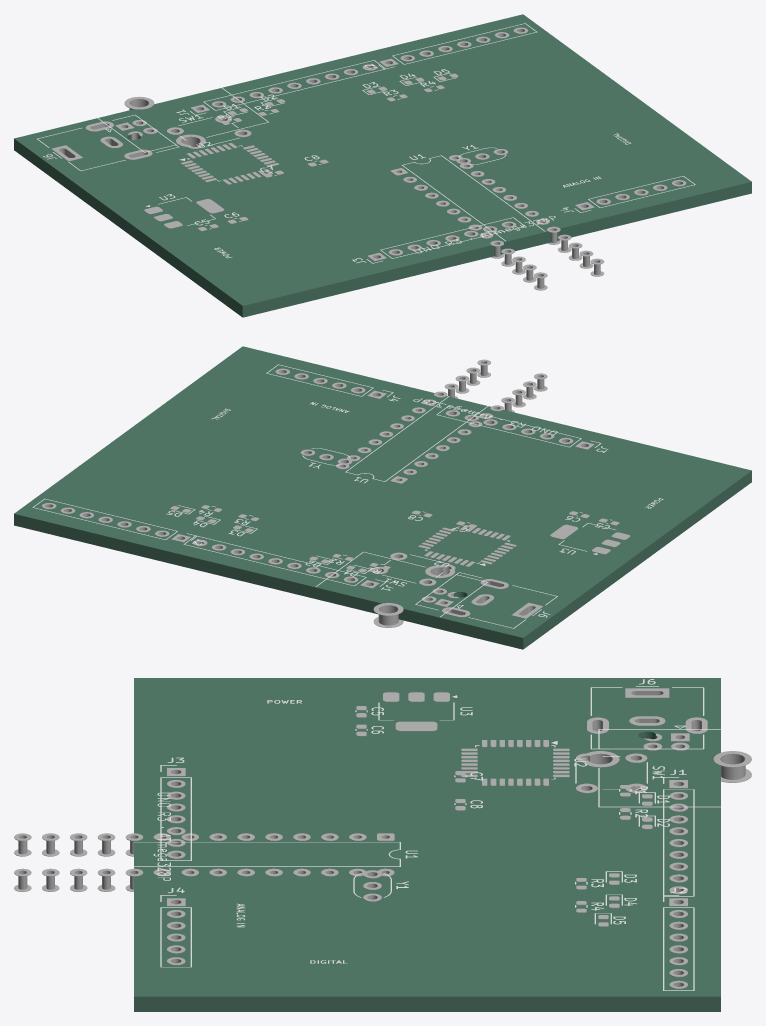
File: arduino-uno-r3-import-check.glb
3 views of the same model, one above another, from view 1: azimuth 30°, elevation 25°; view 2: azimuth 150°, elevation 25°; view 3: azimuth 270°, elevation 25° (orthographic). The views are drawn at different scales.
Parts seen in each view (by area): view 1: =>[0:1:1:4], =>[0:1:1:2], =>[0:1:1:3]; view 2: =>[0:1:1:4], =>[0:1:1:2], =>[0:1:1:3]; view 3: =>[0:1:1:4], =>[0:1:1:2], =>[0:1:1:3].
Part boxes in pixels (box(x1,y1,x2,y2)): =>[0:1:1:4]: box(14, 14, 751, 317); =>[0:1:1:2]: box(51, 27, 686, 290); =>[0:1:1:3]: box(37, 23, 695, 263); =>[0:1:1:4]: box(14, 346, 751, 649); =>[0:1:1:2]: box(42, 359, 630, 627); =>[0:1:1:3]: box(32, 364, 663, 628); =>[0:1:1:4]: box(134, 678, 720, 1011); =>[0:1:1:2]: box(14, 688, 751, 988); =>[0:1:1:3]: box(134, 679, 720, 990).
Size of the model in its own units: 0.0686 by 0.00162 by 0.0671.
